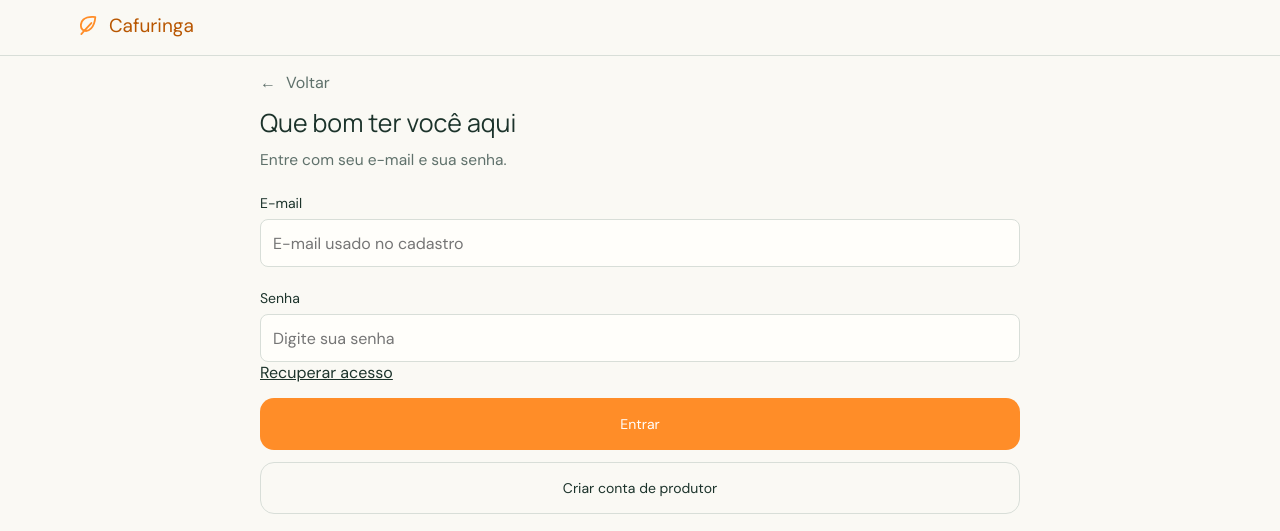
Test case: App — rotas da recuperação de acesso (HU10) › leva do login para a recuperação de acesso pelo botão
Click the button "Recuperar acesso": (326, 372) [260,362,393,383]
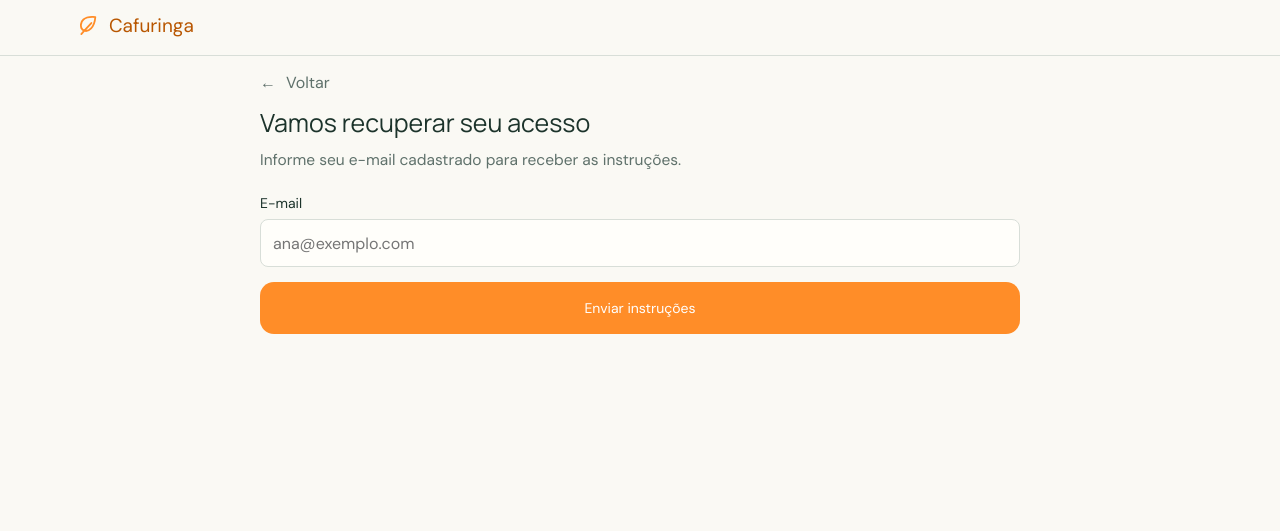
Now the heading "Vamos recuperar seu acesso" is shown, box [260,105,590,140]
